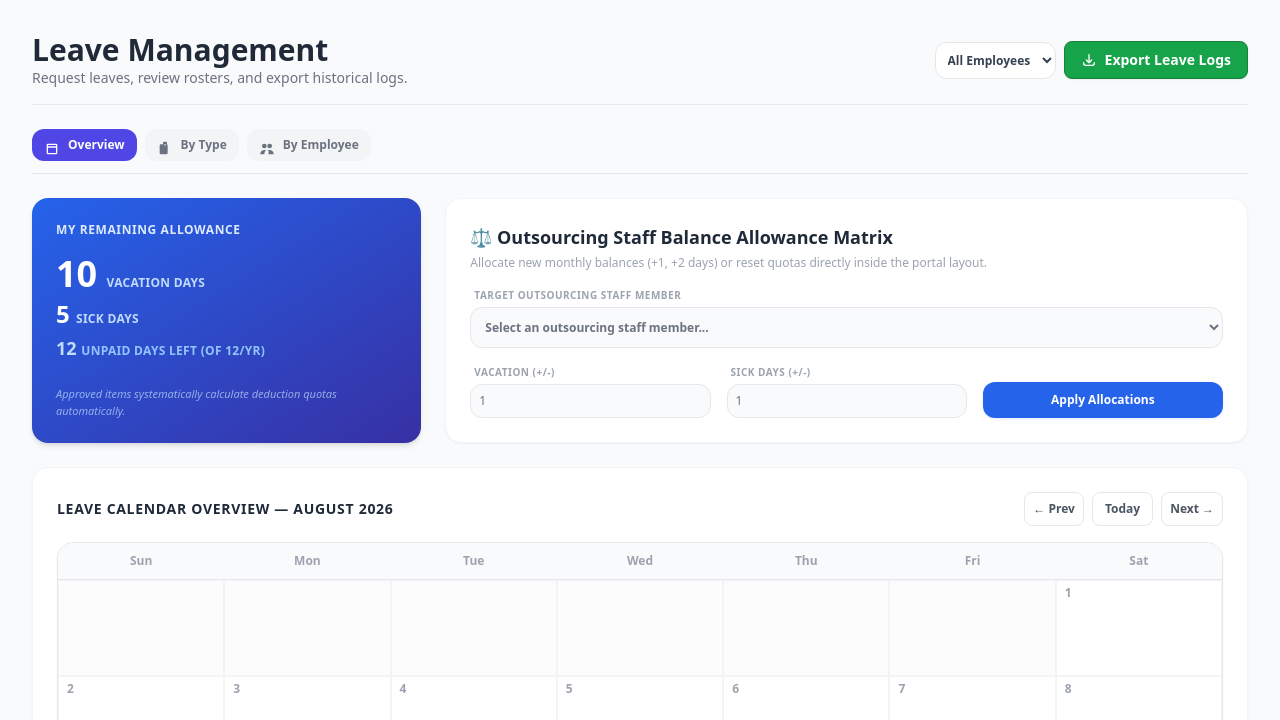
LeaveView › the By Employee tab shows approved-day totals per employee for a supervisor
The width and height of the screenshot is (1280, 720).
Click the tab "By Employee".
click(309, 145)  # box [247,129,371,161]
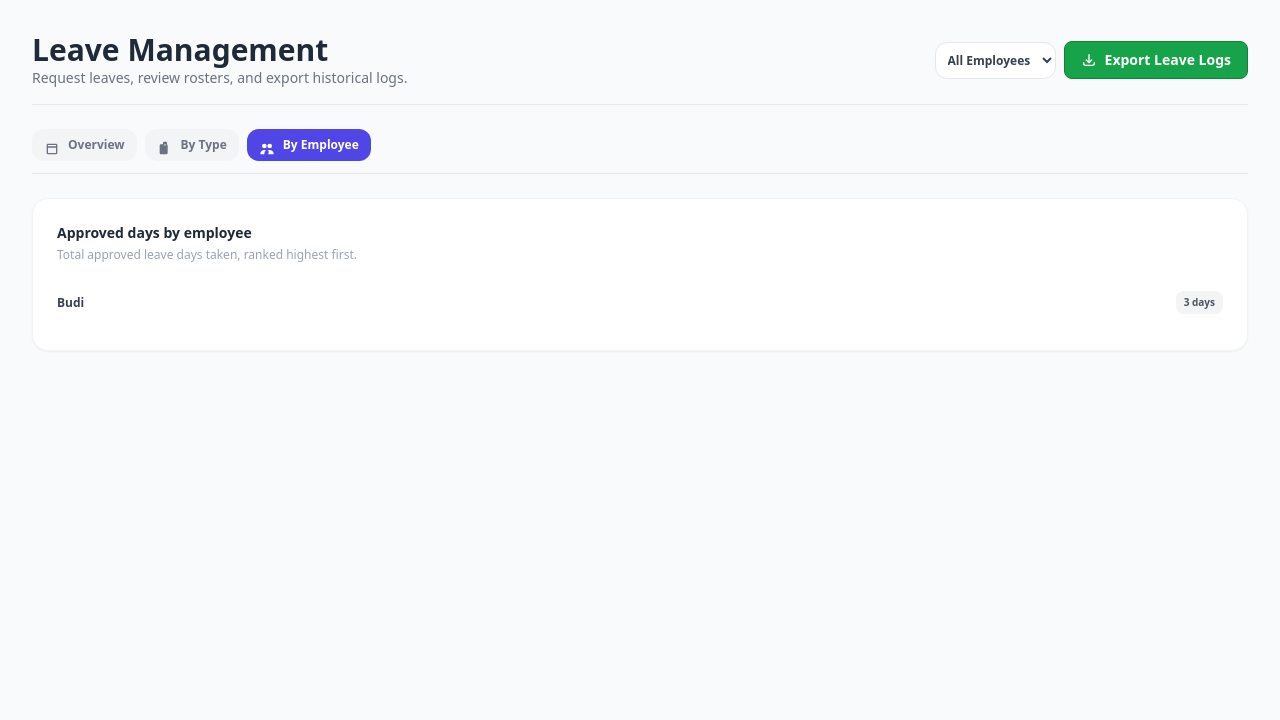
Result: the text "3 days" is shown at [1176,291,1223,314]
